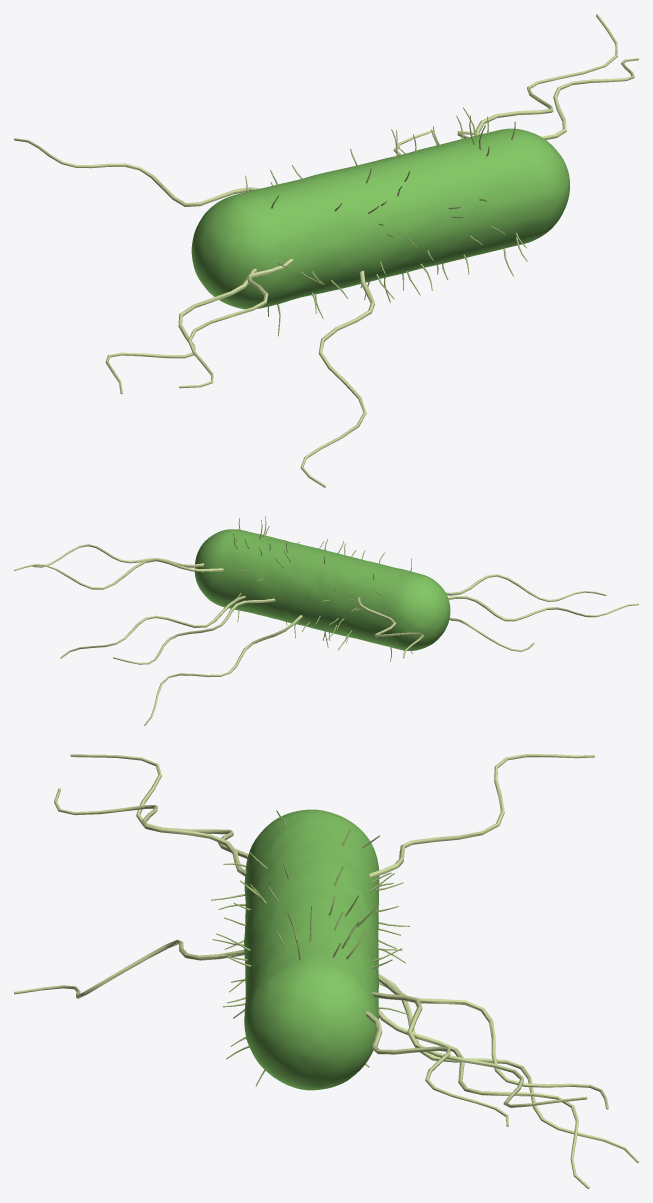
Rendered from rod-bacterium.glb.
3 renders of one model, top to bottom at view 1: azimuth 30°, elevation 25°; view 2: azimuth 150°, elevation 25°; view 3: azimuth 270°, elevation 25°, orthographic. The views are drawn at different scales.
Parts seen in each view (by area): view 1: Rod_Bacterium; view 2: Rod_Bacterium; view 3: Rod_Bacterium.
Part boxes in pixels (x1,y1,x2,y2): Rod_Bacterium: (14, 14, 638, 487); Rod_Bacterium: (14, 516, 638, 725); Rod_Bacterium: (14, 754, 638, 1188).
Bounding box in the file's own units: 1.41 × 0.4008 × 0.9341.
